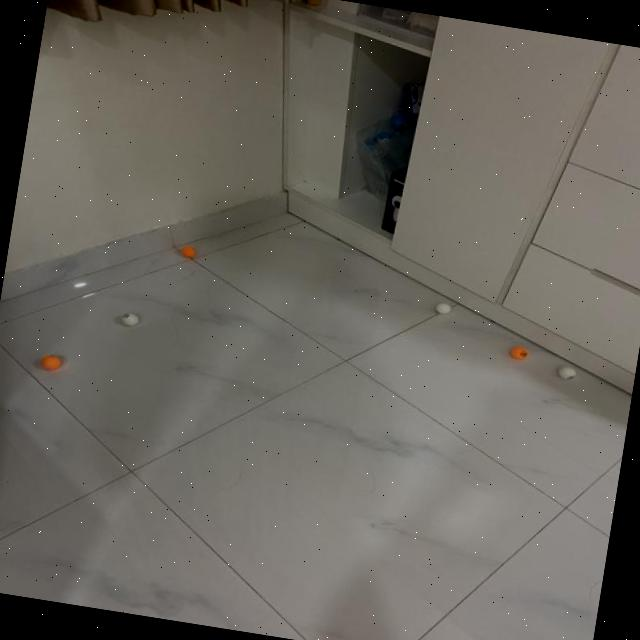ping-pong-ball: (36, 351, 64, 373), (118, 308, 140, 328), (556, 364, 578, 381), (508, 344, 530, 361), (178, 242, 198, 260), (432, 299, 452, 316)
